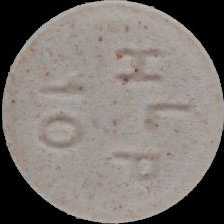0781-5231: (0, 0, 224, 224)
